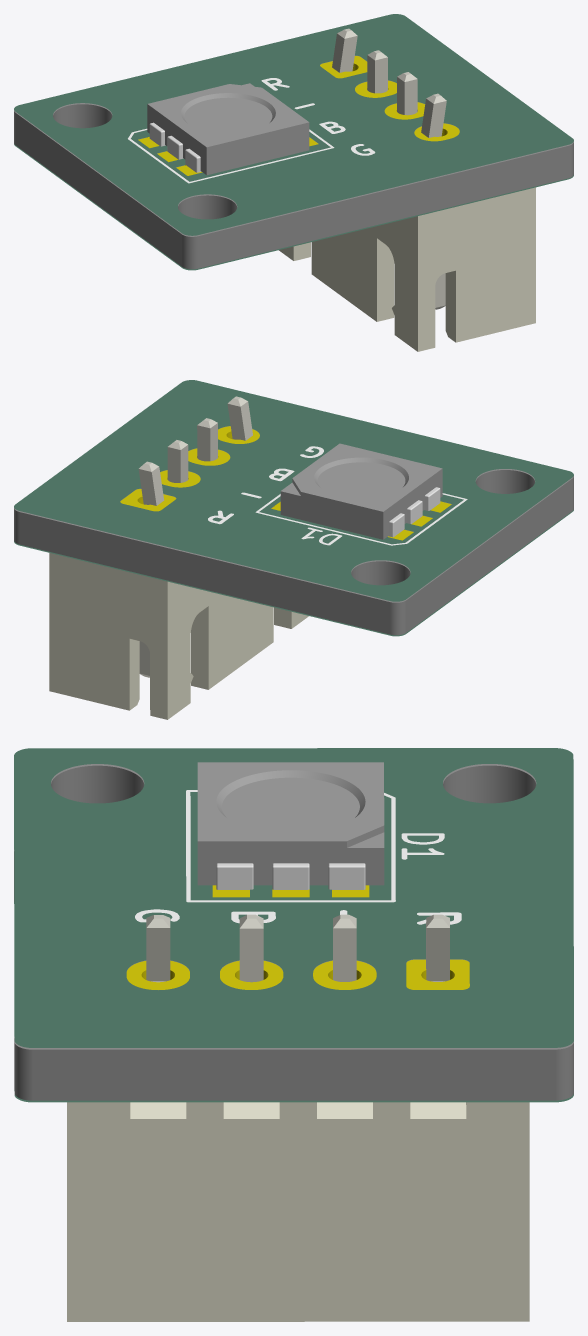
File: rgbModule.glb
3 views of the same model, one above another, from view 1: azimuth 30°, elevation 25°; view 2: azimuth 150°, elevation 25°; view 3: azimuth 270°, elevation 25° (orthographic). The views are drawn at different scales.
Visible parts, largest first — view 1: rgb_led_module_version2_soldermask, JST_XH_B4B-XH-A_1x04_P2.50mm_Vertical004; view 2: rgb_led_module_version2_soldermask, JST_XH_B4B-XH-A_1x04_P2.50mm_Vertical004; view 3: rgb_led_module_version2_soldermask, JST_XH_B4B-XH-A_1x04_P2.50mm_Vertical004.
Boxes of the visible parts, x1,y1,x2,y2 form: rgb_led_module_version2_soldermask: [14, 14, 573, 270]; JST_XH_B4B-XH-A_1x04_P2.50mm_Vertical004: [279, 28, 535, 351]; rgb_led_module_version2_soldermask: [14, 380, 573, 636]; JST_XH_B4B-XH-A_1x04_P2.50mm_Vertical004: [49, 396, 308, 719]; rgb_led_module_version2_soldermask: [14, 748, 573, 1102]; JST_XH_B4B-XH-A_1x04_P2.50mm_Vertical004: [67, 914, 529, 1321].
Size of the model in its own units: 119 by 64.93 by 93.73.
